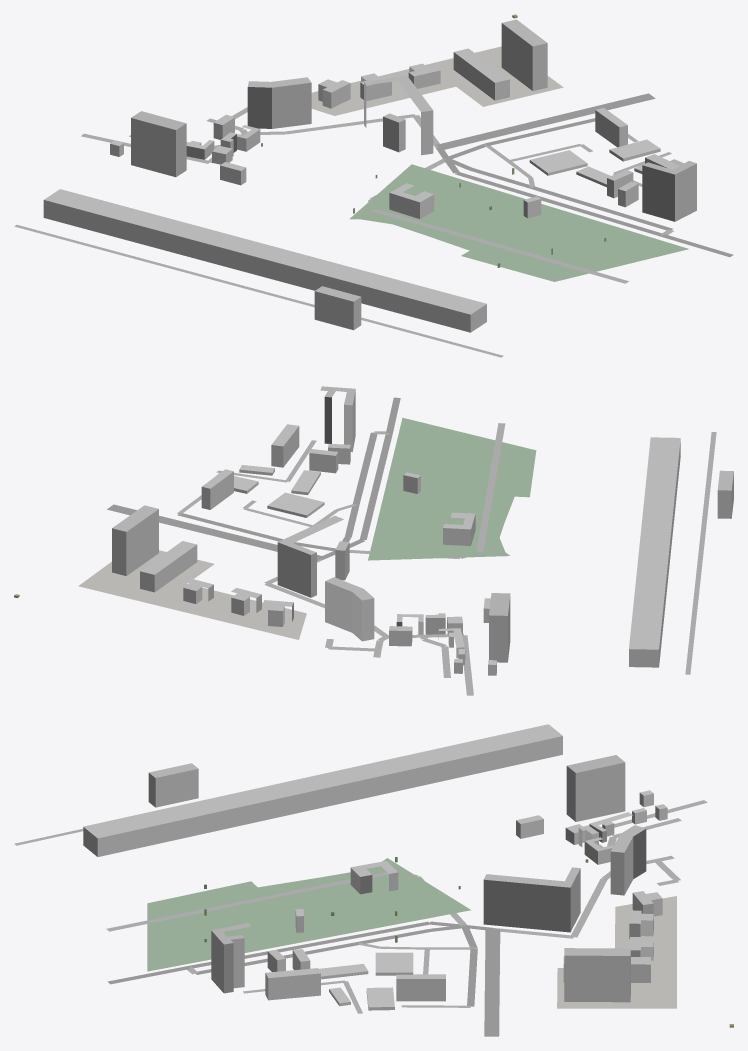
3 views of the same model, one above another, from view 1: azimuth 30°, elevation 25°; view 2: azimuth 150°, elevation 25°; view 3: azimuth 270°, elevation 25° (orthographic). The views are drawn at different scales.
Size of the model in its own units: 692 by 52.47 by 680.
